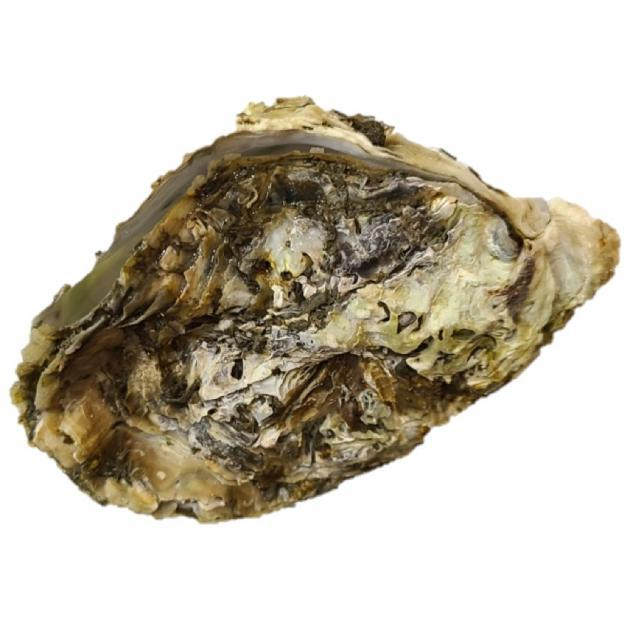Oyster- Indeterminate: (6, 90, 622, 528)
